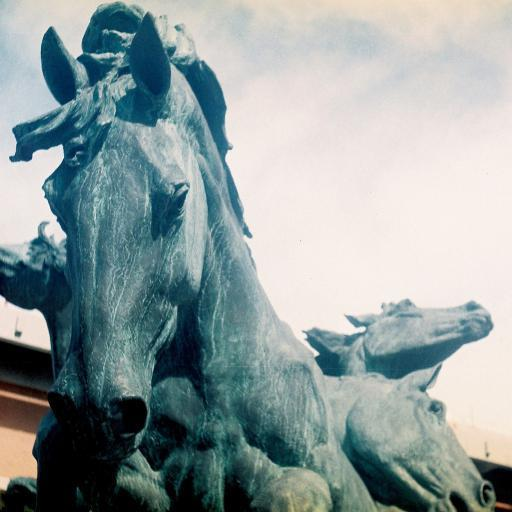horse: (4, 0, 380, 512), (336, 361, 498, 512), (301, 296, 495, 378), (0, 214, 65, 310)
